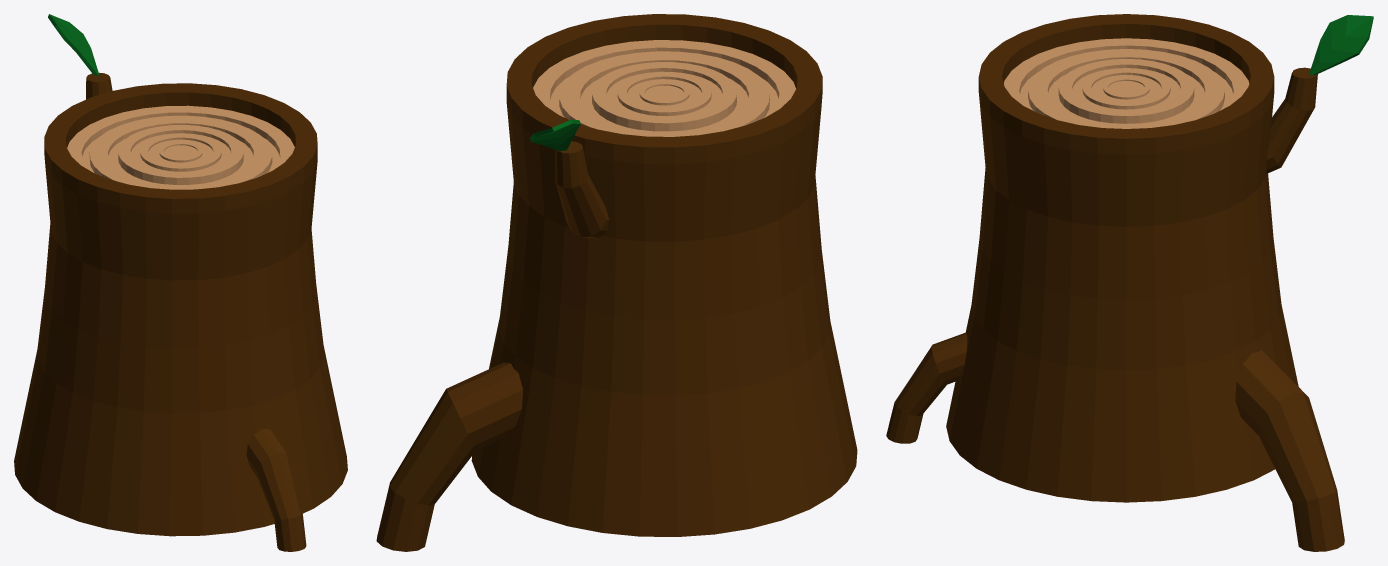
File: pieniek.fbx
3 renders of one model, left to right at view 1: azimuth 30°, elevation 25°; view 2: azimuth 150°, elevation 25°; view 3: azimuth 270°, elevation 25°, orthographic. The views are drawn at different scales.
Parts seen in each view (by area): view 1: Cylinder.002; view 2: Cylinder.002; view 3: Cylinder.002.
Boxes of the visible parts, x1,y1,x2,y2 form: Cylinder.002: [14, 14, 347, 551]; Cylinder.002: [376, 14, 857, 551]; Cylinder.002: [886, 14, 1373, 551].
Size of the model in its own units: 175 by 231 by 228.
